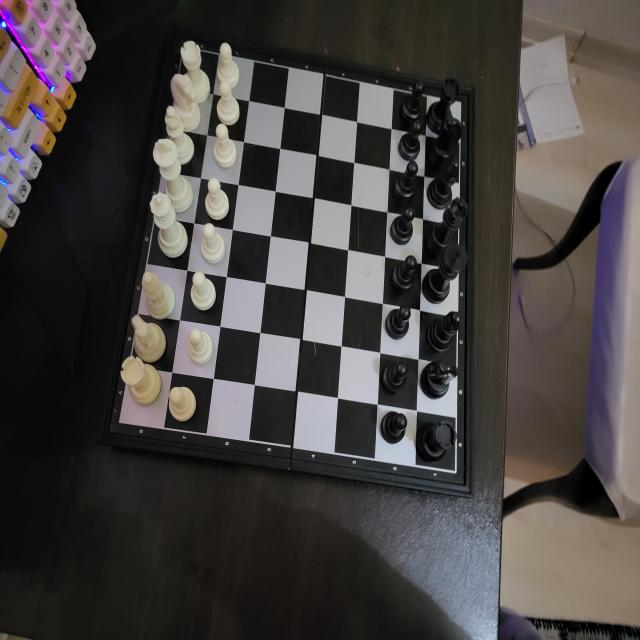black-bishop: (428, 159, 460, 210), (428, 311, 461, 351)
black-king: (424, 245, 468, 304)
black-knight: (420, 356, 458, 401), (433, 118, 462, 168)
black-pawn: (392, 158, 420, 202), (390, 254, 418, 296), (380, 408, 410, 447), (380, 357, 409, 396), (400, 78, 424, 125), (384, 302, 413, 340), (390, 206, 416, 247), (400, 120, 420, 162)
black-queen: (429, 197, 468, 250)
black-rook: (417, 419, 459, 467), (428, 76, 460, 133)
chess-board: (113, 37, 471, 484)
white-bishop: (142, 269, 176, 322), (164, 106, 194, 165)
white-king: (152, 137, 194, 212)
white-knight: (168, 72, 202, 133), (130, 312, 168, 365)
white-pawn: (168, 383, 198, 424), (212, 122, 237, 171), (204, 176, 230, 222), (216, 40, 240, 89), (190, 270, 217, 312), (216, 80, 240, 126), (186, 328, 214, 366), (201, 222, 225, 265)
white-queen: (149, 191, 189, 260)
white-rook: (120, 355, 164, 406), (179, 40, 211, 104)
